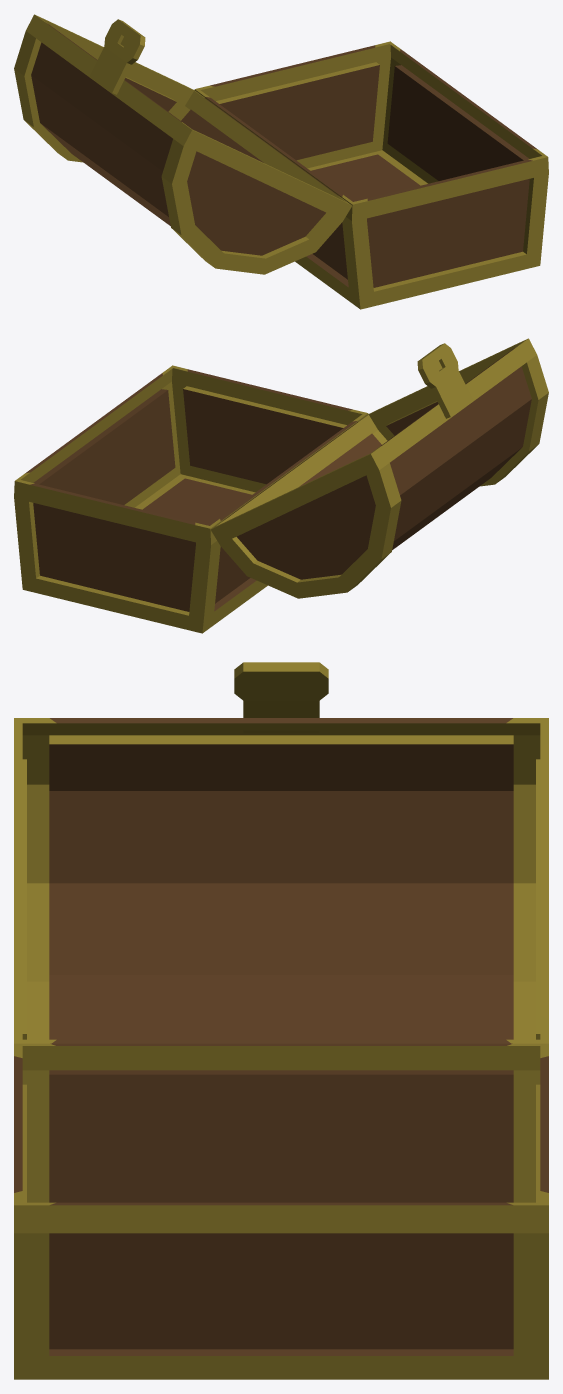
Rendered from chest open - samuelgragg.fbx.
The picture shows the model from 3 angles, top to bottom: view 1: azimuth 30°, elevation 25°; view 2: azimuth 150°, elevation 25°; view 3: azimuth 270°, elevation 25°; orthographic projection. The views are drawn at different scales.
Visible parts, largest first — view 1: Cylinder.005, Cylinder.003, Cylinder.004; view 2: Cylinder.005, Cylinder.003, Cylinder.004; view 3: Cylinder.005, Cylinder.003, Cylinder.004.
Boxes of the visible parts, bbox=[...] form: Cylinder.005: bbox=[194, 41, 548, 309]; Cylinder.003: bbox=[14, 14, 351, 274]; Cylinder.004: bbox=[89, 19, 145, 94]; Cylinder.005: bbox=[14, 365, 368, 633]; Cylinder.003: bbox=[211, 338, 548, 598]; Cylinder.004: bbox=[417, 343, 473, 418]; Cylinder.005: bbox=[14, 1043, 548, 1379]; Cylinder.003: bbox=[14, 718, 548, 1043]; Cylinder.004: bbox=[234, 662, 328, 733].
Size of the model in its own units: 374 by 248 by 271.
